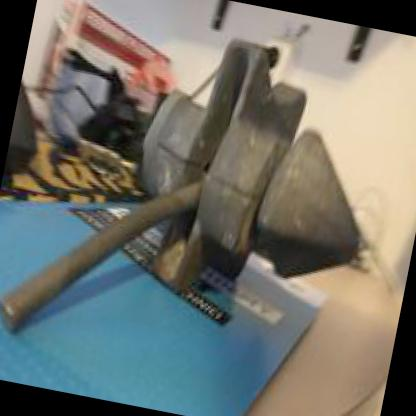Twistlock: (0, 0, 404, 405)
